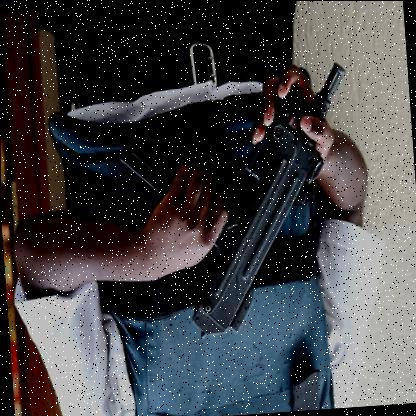rifle: (118, 37, 370, 352)
